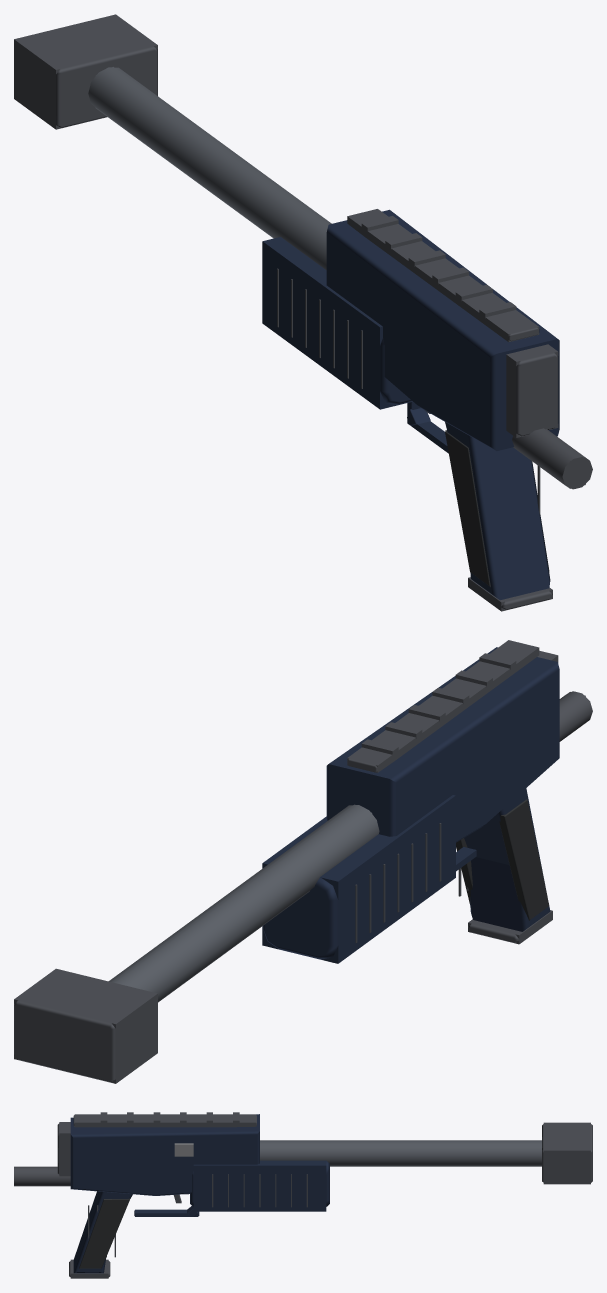
Rendered from g_doorkick.glb.
3 renders of one model, top to bottom at view 1: azimuth 30°, elevation 25°; view 2: azimuth 150°, elevation 25°; view 3: azimuth 270°, elevation 25°, orthographic. The views are drawn at different scales.
Visible parts, largest first — view 1: L0, L1; view 2: L0, L1; view 3: L0, L1.
Boxes of the visible parts, x1=… form: L0: x1=14, y1=15, x2=592, y2=610; L1: x1=14, y1=14, x2=592, y2=611; L0: x1=14, y1=640, x2=592, y2=1082; L1: x1=14, y1=640, x2=585, y2=1083; L0: x1=14, y1=1112, x2=592, y2=1277; L1: x1=14, y1=1114, x2=590, y2=1278.
Bounding box in the file's own units: 0.07 × 0.1811 × 0.612.
